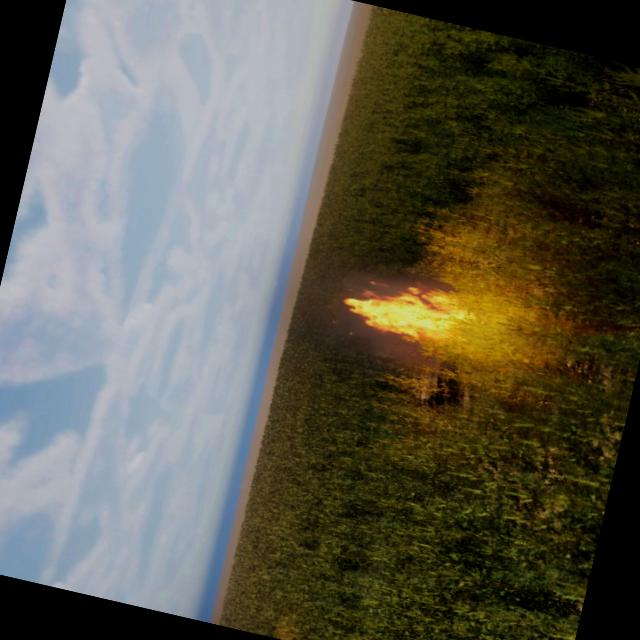fire: (332, 267, 510, 358)
smoke: (280, 242, 464, 382)
